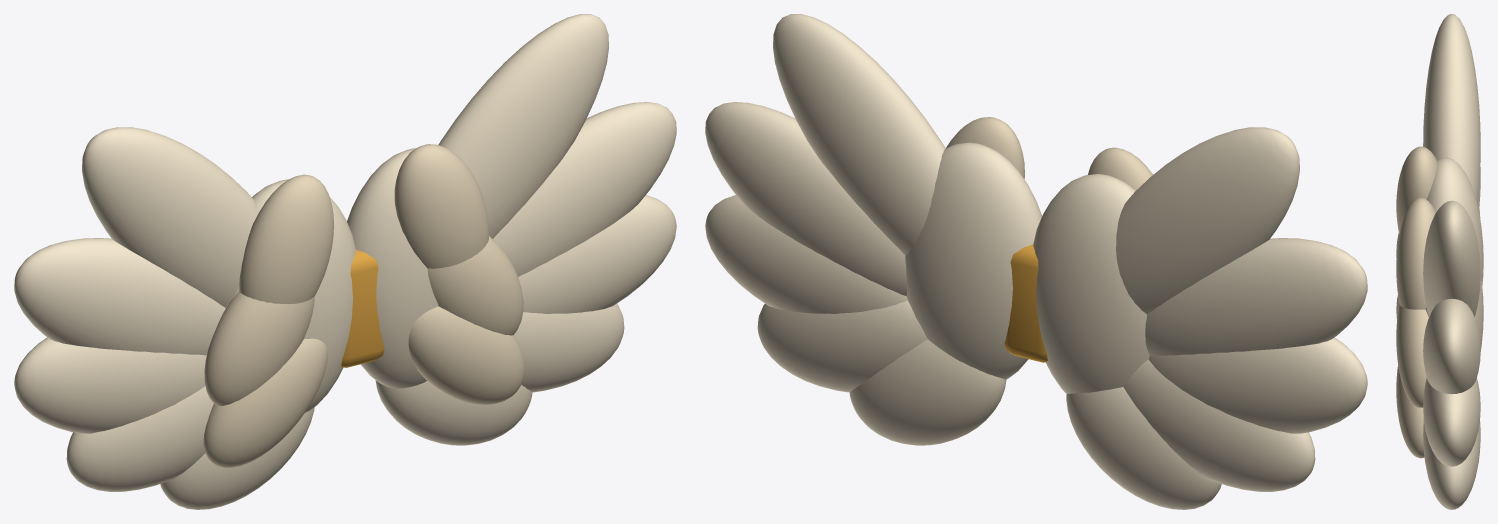
File: AngelWings.glb
3 views of the same model, side by side, from view 1: azimuth 30°, elevation 25°; view 2: azimuth 150°, elevation 25°; view 3: azimuth 270°, elevation 25° (orthographic). The views are drawn at different scales.
Parts seen in each view (by area): view 1: Rounded primary feather, Rounded primary feather.005, Rounded primary feather.001, Rounded primary feather.006, Rounded primary feather.002, Rounded primary feather.007, Wing root.001, Layered soft covert, Rounded primary feather.003, Layered soft covert.003, Layered soft covert.005, Layered soft covert.001 (+7 smaller); view 2: Rounded primary feather.005, Rounded primary feather, Wing root.001, Wing root, Rounded primary feather.001, Rounded primary feather.006, Rounded primary feather.002, Rounded primary feather.003, Rounded primary feather.007, Rounded primary feather.009, Rounded primary feather.008, Rounded primary feather.004 (+3 smaller); view 3: Rounded primary feather, Rounded primary feather.005, Rounded primary feather.006, Rounded primary feather.007, Layered soft covert.003, Layered soft covert.004, Rounded primary feather.008, Wing root, Layered soft covert, Layered soft covert.005, Wing root.001.
Boxes of the visible parts, box(x1,y1,x2,y2) form: Rounded primary feather: box(82, 127, 255, 307); Rounded primary feather.005: box(438, 14, 608, 238); Rounded primary feather.001: box(14, 238, 225, 355); Rounded primary feather.006: box(493, 102, 676, 276); Rounded primary feather.002: box(14, 337, 206, 433); Rounded primary feather.007: box(518, 195, 676, 313); Wing root.001: box(347, 148, 438, 388); Layered soft covert: box(239, 174, 333, 304); Rounded primary feather.003: box(66, 386, 213, 491); Layered soft covert.003: box(394, 144, 489, 268); Layered soft covert.005: box(408, 306, 524, 404); Layered soft covert.001: box(204, 291, 314, 405); Rounded primary feather.005: box(773, 14, 945, 255); Rounded primary feather: box(1116, 127, 1299, 314); Wing root.001: box(905, 142, 1042, 379); Wing root: box(1033, 174, 1149, 393); Rounded primary feather.001: box(1145, 238, 1367, 355); Rounded primary feather.006: box(705, 102, 906, 296); Rounded primary feather.002: box(1148, 337, 1367, 433); Rounded primary feather.003: box(1123, 359, 1315, 491); Rounded primary feather.007: box(705, 195, 907, 313); Rounded primary feather.009: box(849, 339, 1006, 445); Rounded primary feather.008: box(757, 300, 927, 392); Rounded primary feather.004: box(1066, 387, 1221, 509); Rounded primary feather: box(1423, 14, 1480, 204); Rounded primary feather.005: box(1423, 200, 1480, 316); Rounded primary feather.006: box(1423, 298, 1480, 394); Rounded primary feather.007: box(1423, 378, 1480, 466); Layered soft covert.003: box(1396, 198, 1435, 309); Layered soft covert.004: box(1396, 304, 1428, 407); Rounded primary feather.008: box(1423, 420, 1480, 509); Wing root: box(1426, 157, 1483, 284); Layered soft covert: box(1396, 146, 1437, 233); Layered soft covert.005: box(1396, 365, 1424, 458); Wing root.001: box(1425, 275, 1483, 351).
Size of the model in its own units: 0.6379 by 0.3712 by 0.088.
